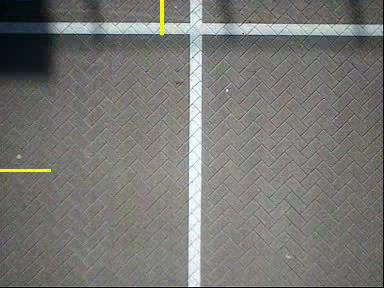groundmarker_2: (188, 162, 241, 227)
